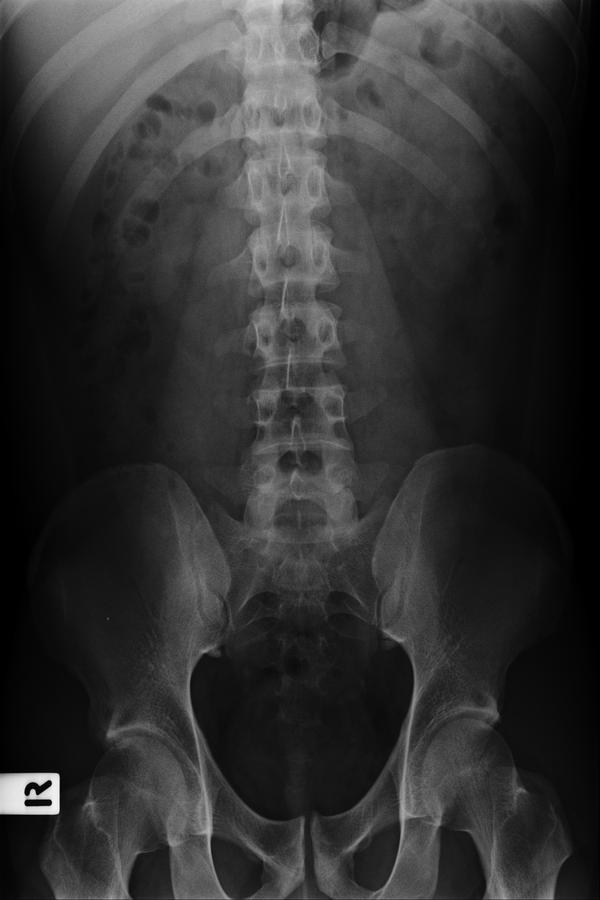lumbar scoliosis: (228, 20, 362, 561)
